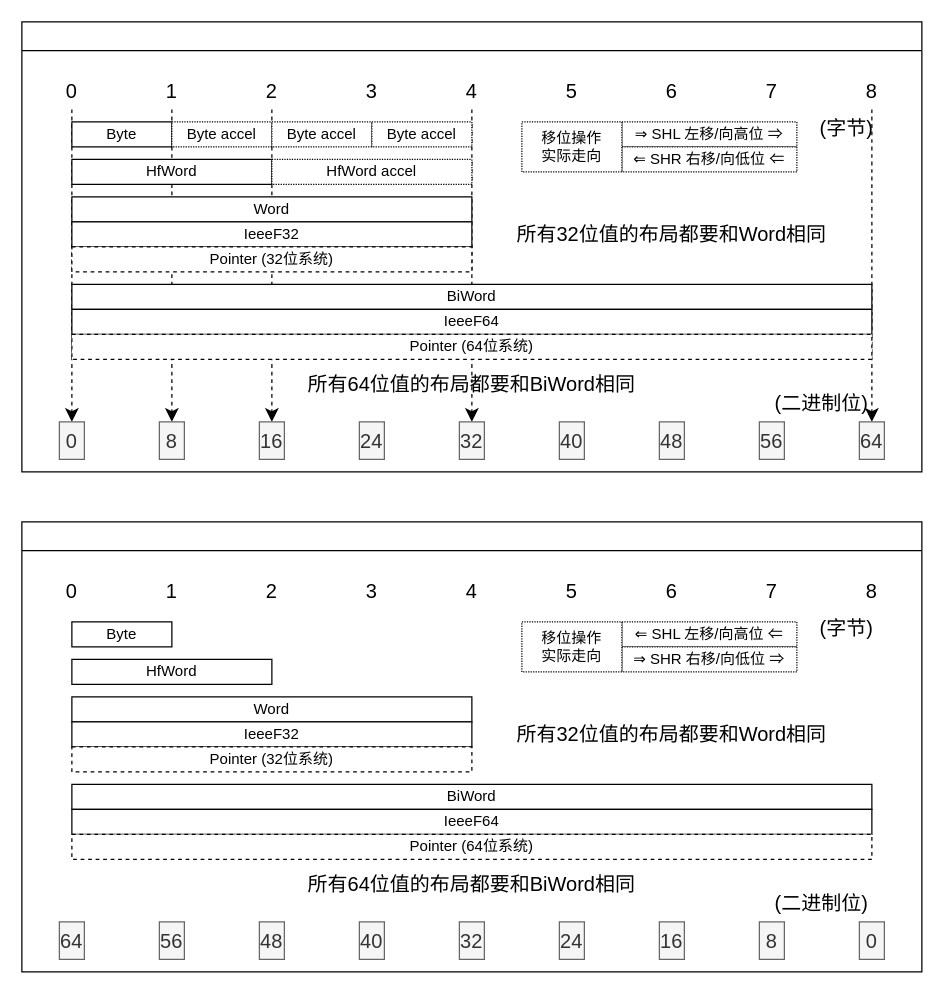
This 944x994 diagram has some shape labels left out. Each missing label, with the box of its shape:
基础类型与寄存器布局（32-bit大端机器/64-bit大端机器）: (21, 521, 922, 972)
基础类型与寄存器布局（32-bit小端机器/64-bit小端机器）: (21, 21, 922, 472)
